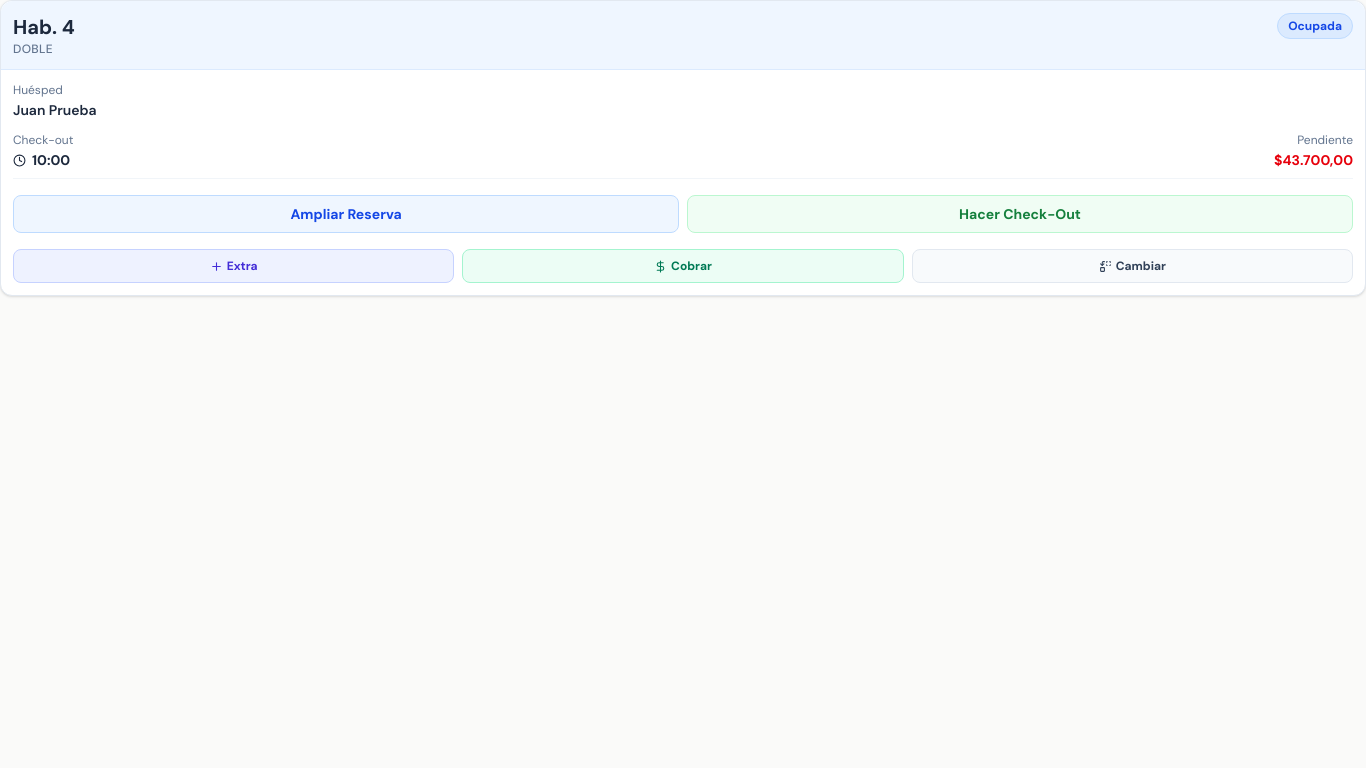
it: RoomCard: Cobrar a cuenta antes del check-out › en una empresa con cuenta, el cobro a cuenta no ofrece ni marca Cta. Cte.
The image size is (1366, 768).
Click the button "Cobrar" at (683, 266), box [462,249,904,283]
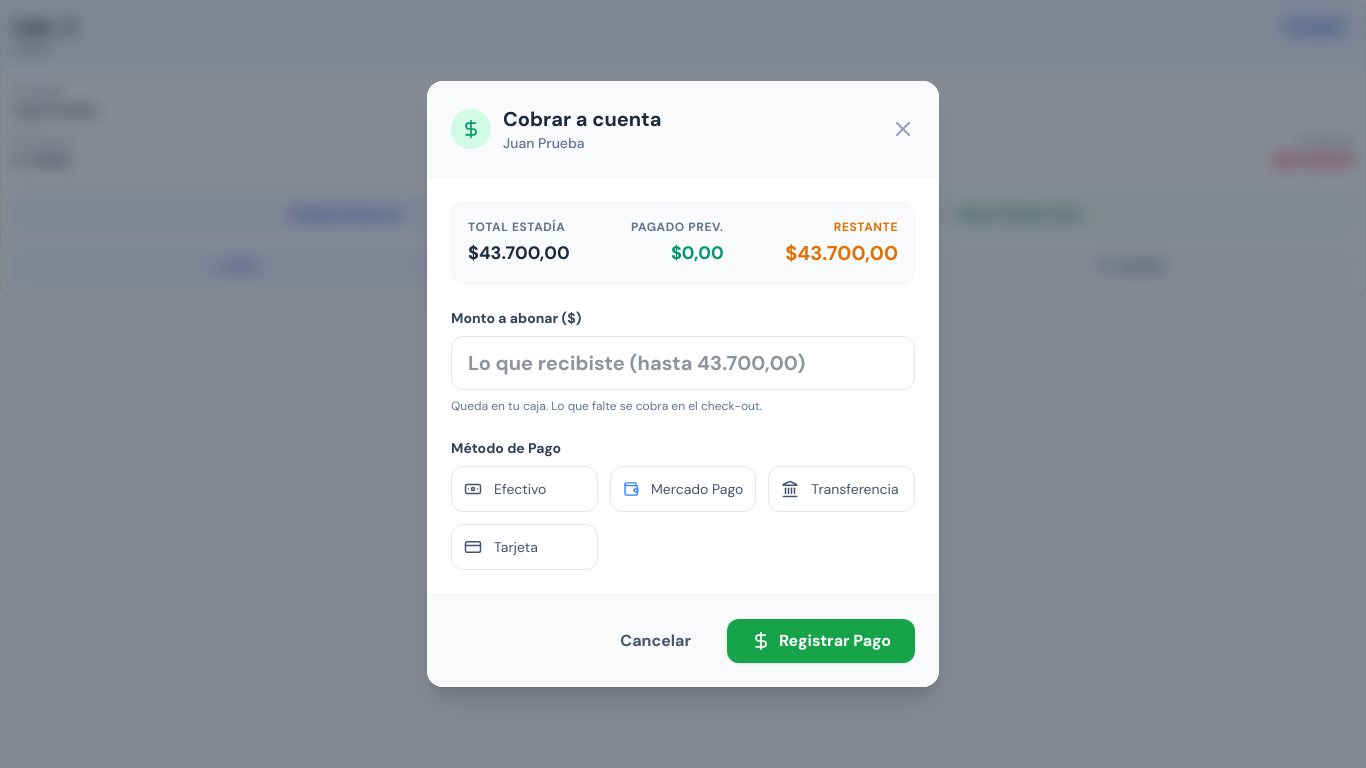
Check: the heading "Cobrar a cuenta" is shown, box [503,105,662,133]
